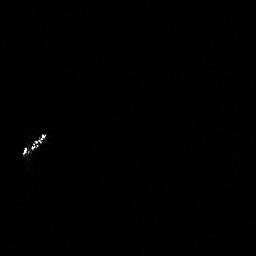ship: (22, 132, 47, 154)
